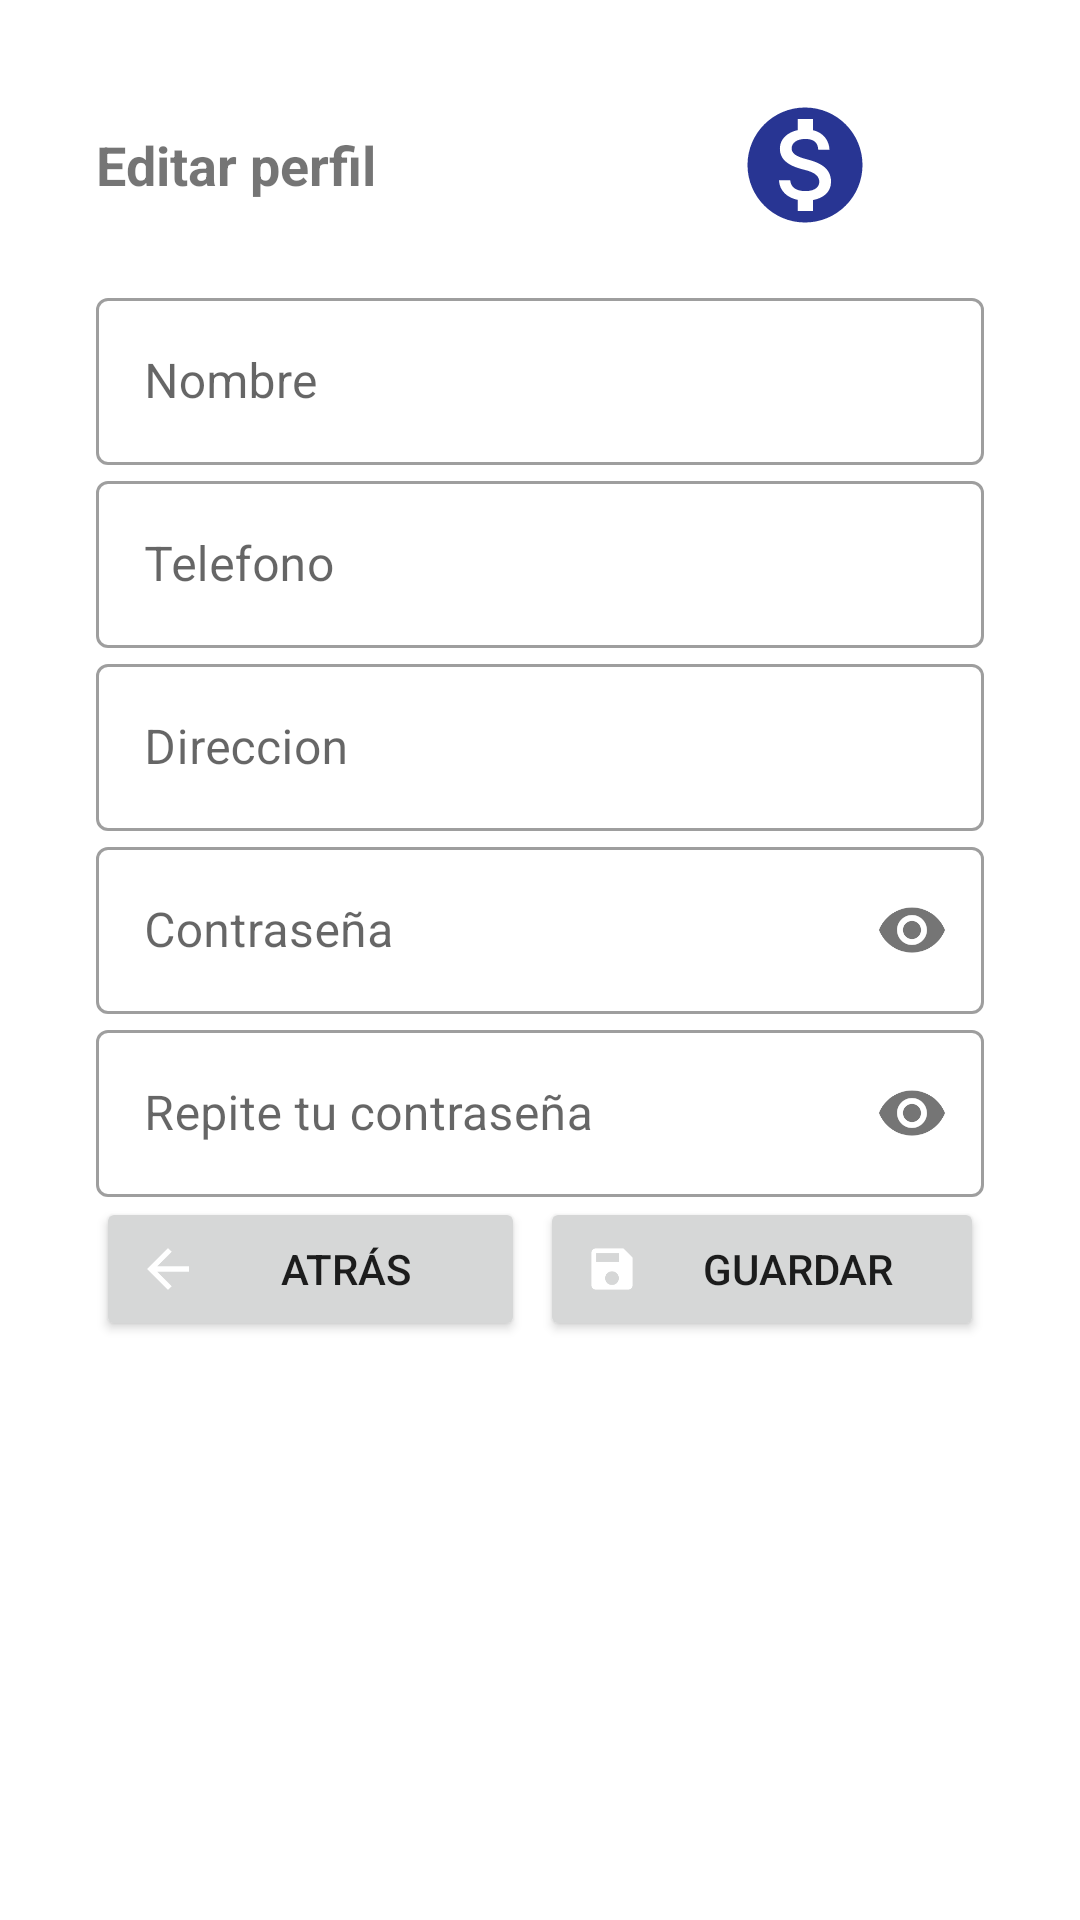

Icons on this 1080px×1920px Android screen, each with its box as (x1, y1, x2, y2):
monetization on: (747, 107, 863, 223)
